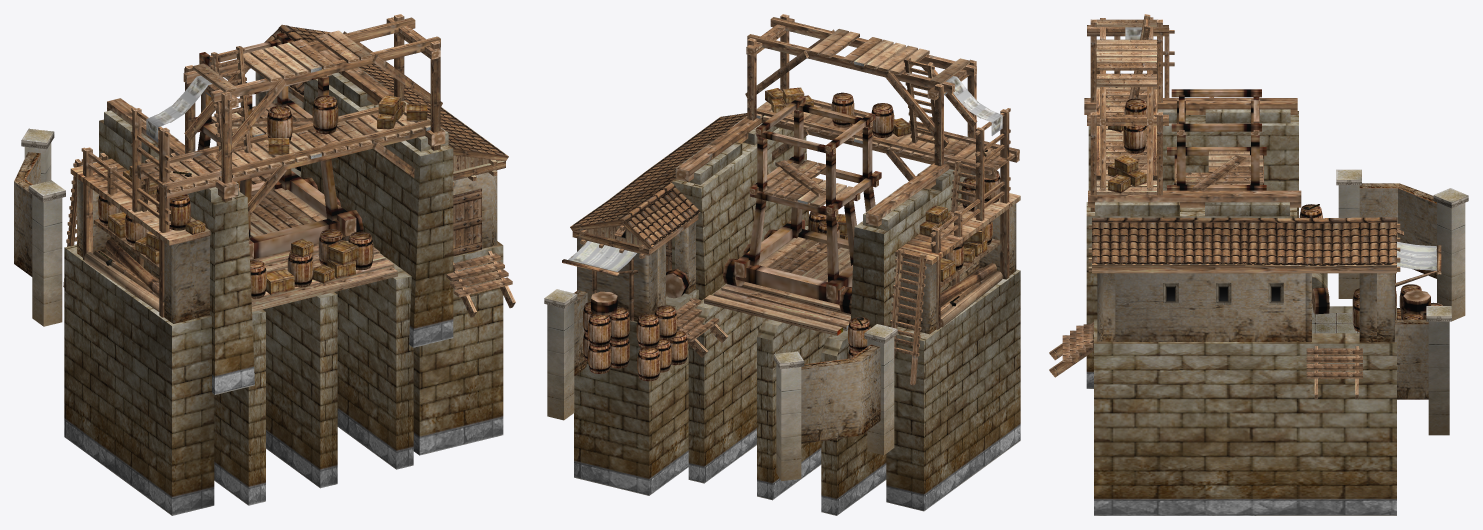
File: s_seleucids_workshop.glb
3 views of the same model, side by side, from view 1: azimuth 30°, elevation 25°; view 2: azimuth 150°, elevation 25°; view 3: azimuth 270°, elevation 25° (orthographic). The views are drawn at different scales.
Parts seen in each view (by area): view 1: s_seleucids_workshop_part0; view 2: s_seleucids_workshop_part0; view 3: s_seleucids_workshop_part0.
Part boxes in pixels (x1,y1,x2,y2): s_seleucids_workshop_part0: [14, 14, 515, 515]; s_seleucids_workshop_part0: [544, 14, 1020, 515]; s_seleucids_workshop_part0: [1049, 14, 1468, 515].
Size of the model in its own units: 4.71 by 5.18 by 5.
Materials: 1 (1 with a texture image).
